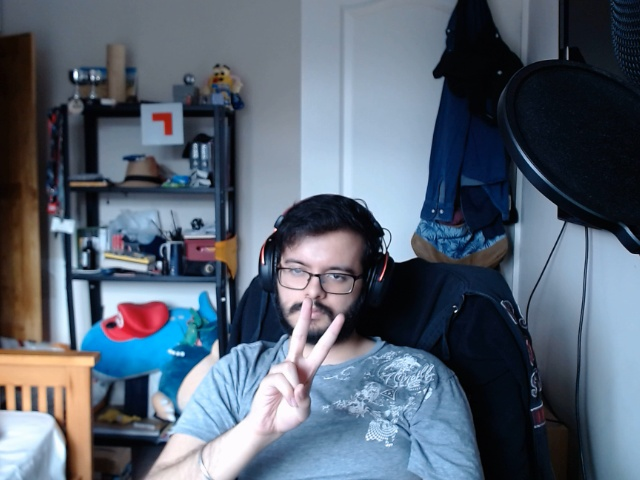Peace: (240, 295, 355, 448)
